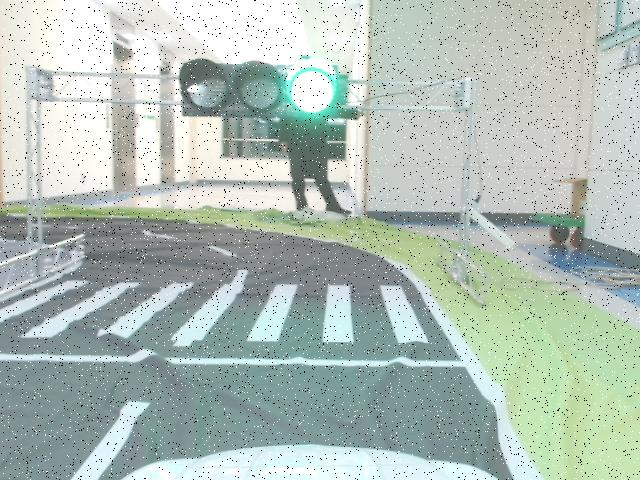crosswalk: (0, 279, 430, 343)
traffic light-green-: (179, 58, 338, 116)
